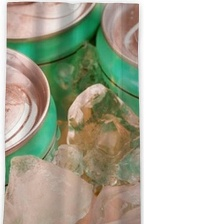can: (0, 41, 65, 189), (5, 1, 116, 74), (95, 0, 140, 120)
